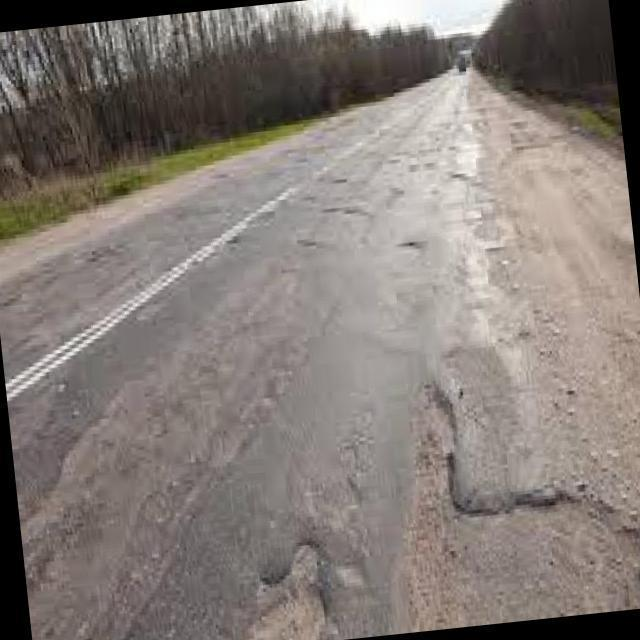-: (245, 429, 640, 640)
